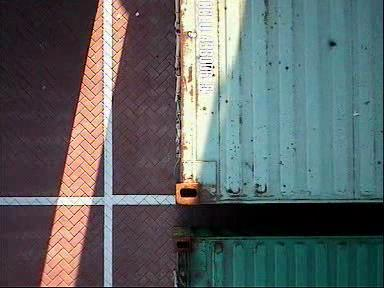groundmarker_2: (195, 29, 244, 109)
